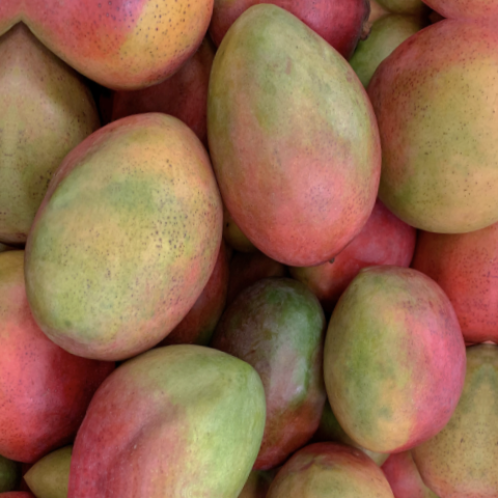mango: (152, 0, 436, 302), (2, 97, 241, 378), (71, 328, 293, 498), (309, 253, 474, 451)
